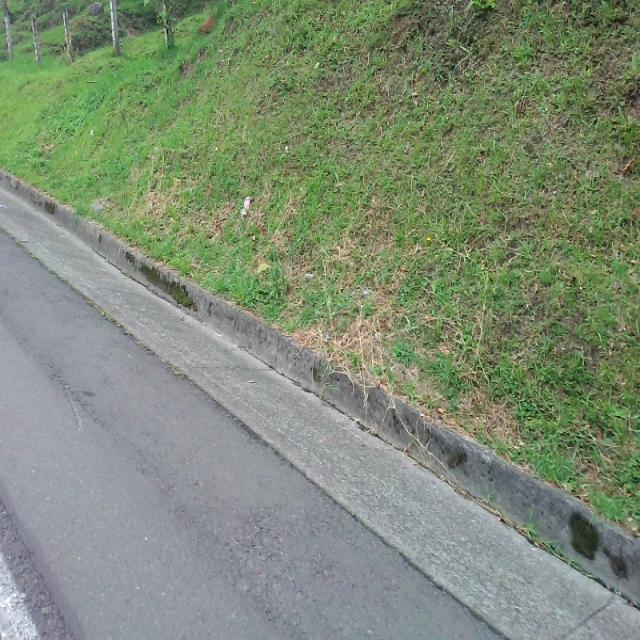DITCH: (1, 170, 639, 639)
